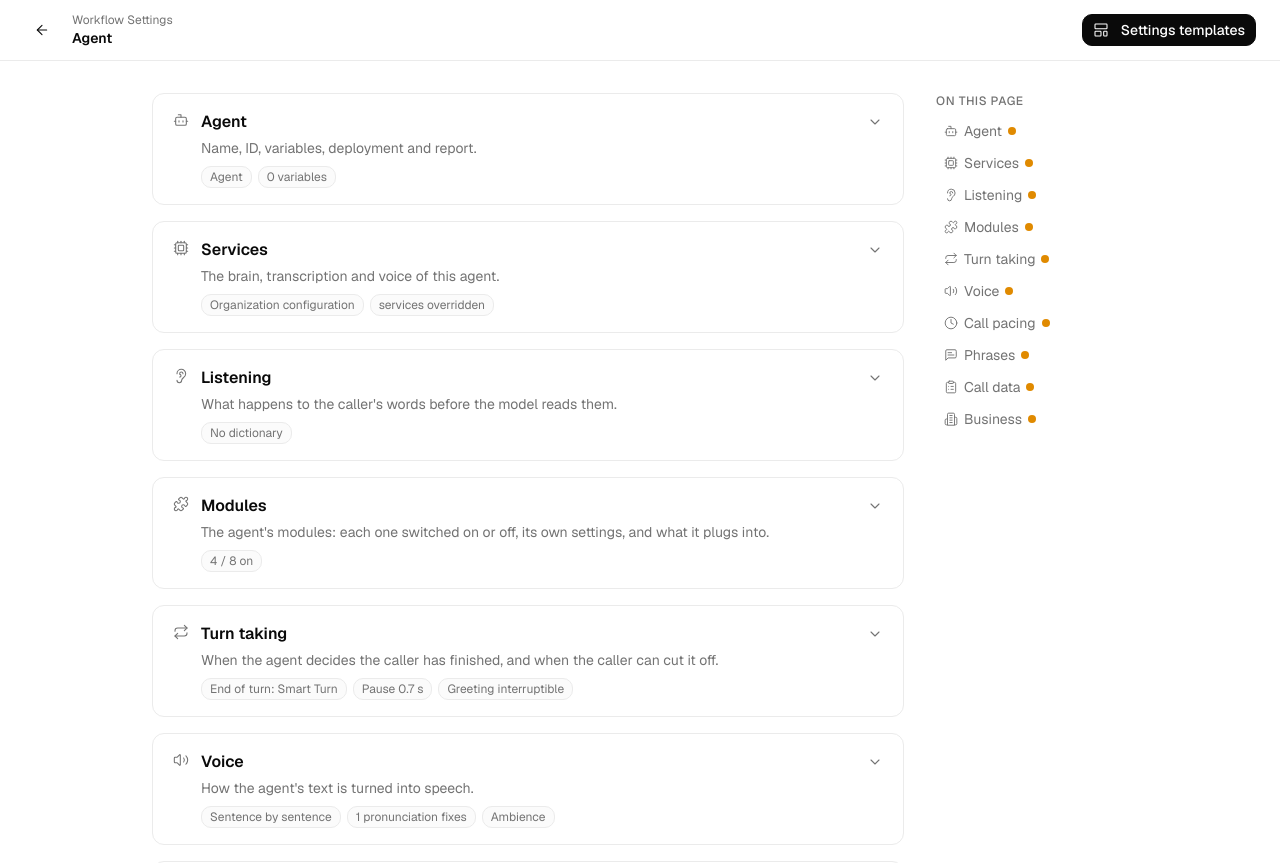
it: [.mark] the agent page in themes › has the settings templates button in the fixed header, outside the themes
Click the button "Settings templates" at point(1169, 30), box x1=1082 y1=14 x2=1256 y2=46
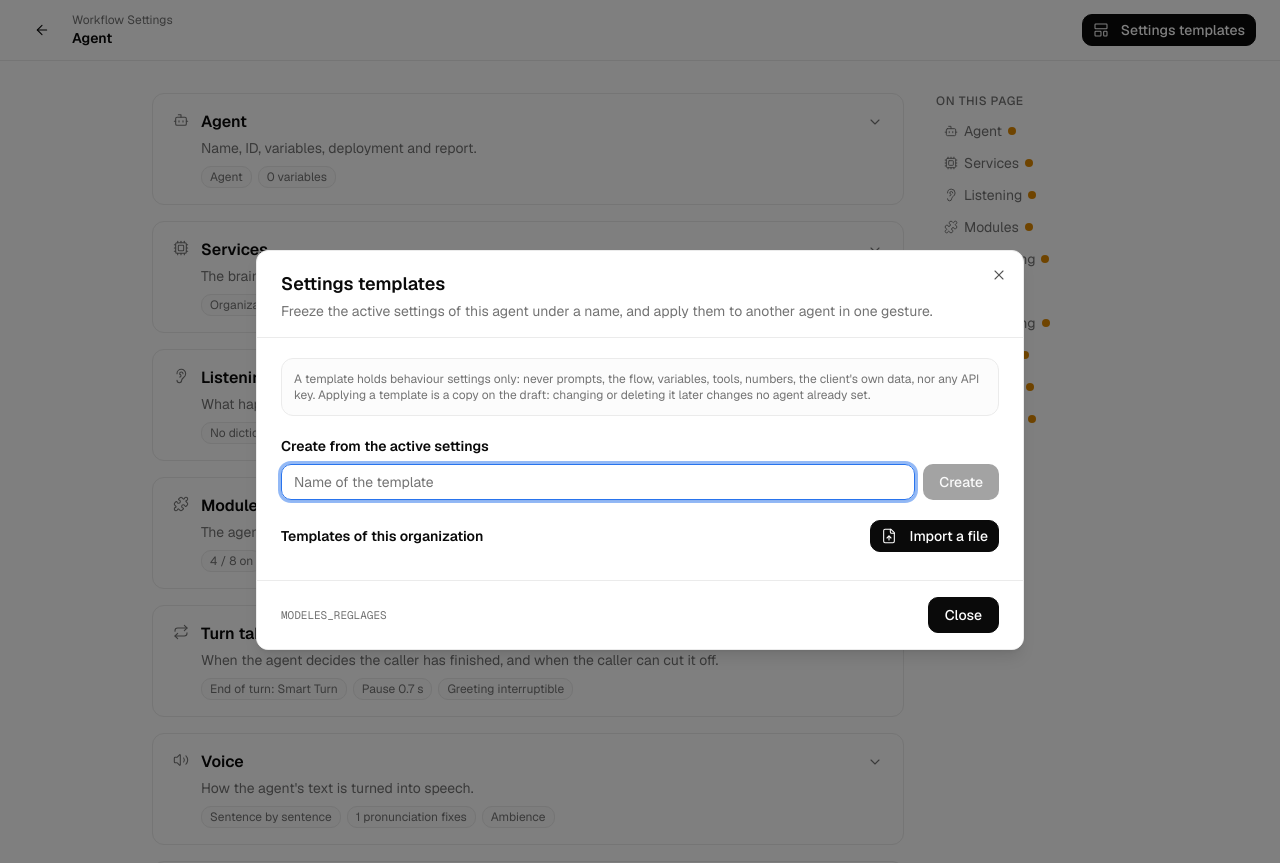
Now the dialog is shown, box x1=256 y1=250 x2=1024 y2=650
